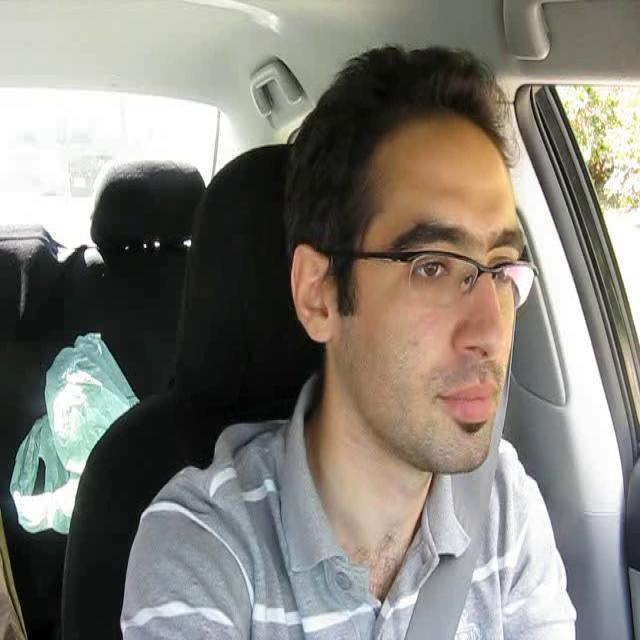close: (436, 375, 499, 429)
